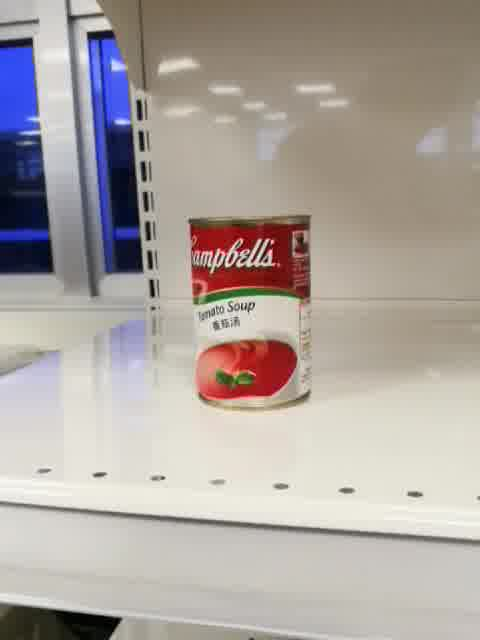tomatosoup: (186, 212, 314, 413)
